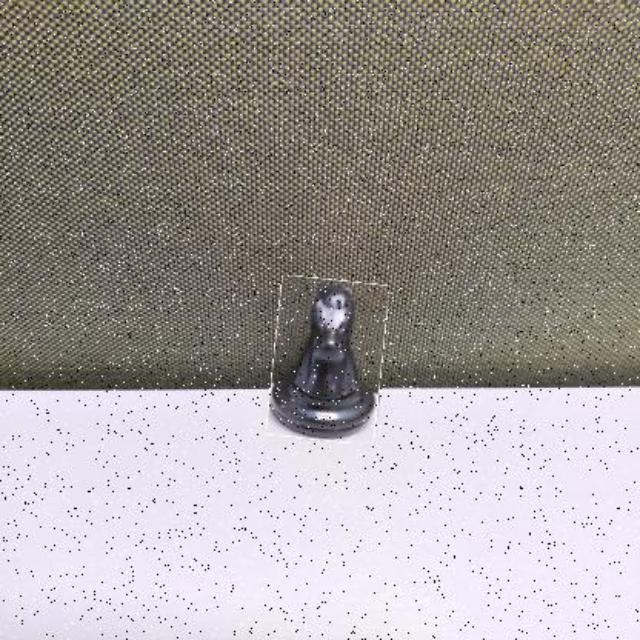black-knight: (270, 278, 385, 442)
